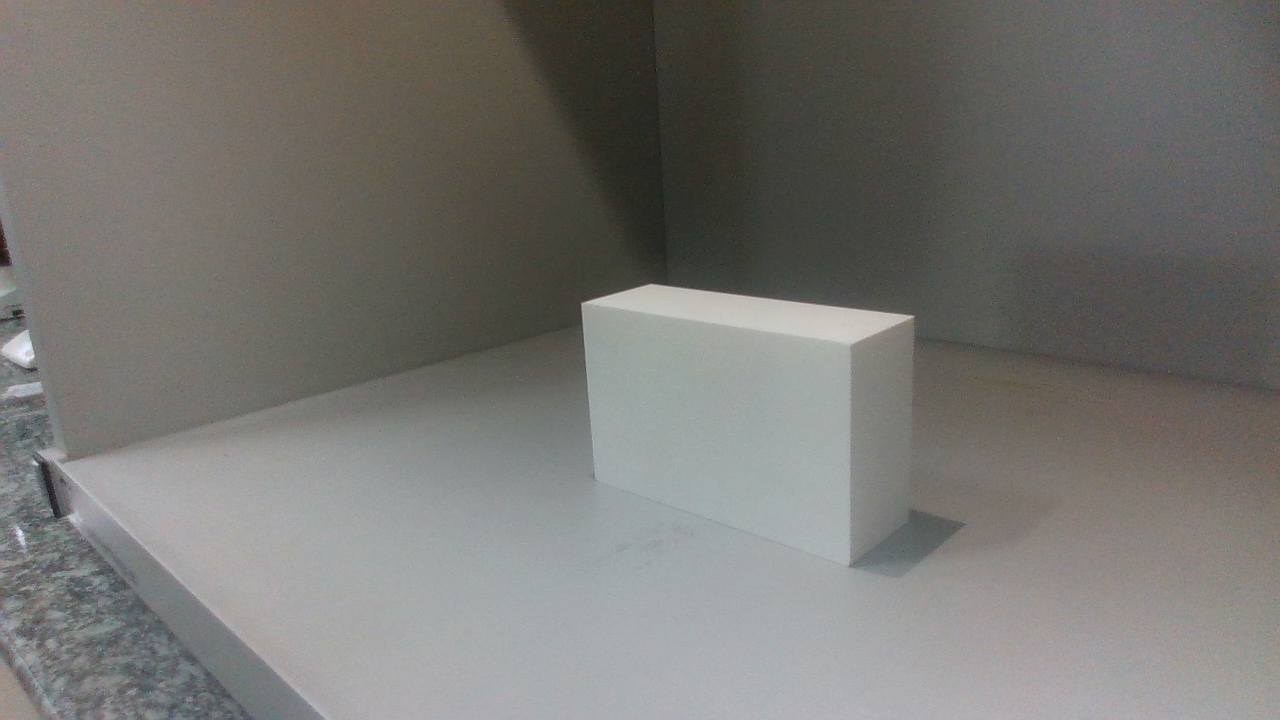Retangulo: (582, 284, 914, 565)
